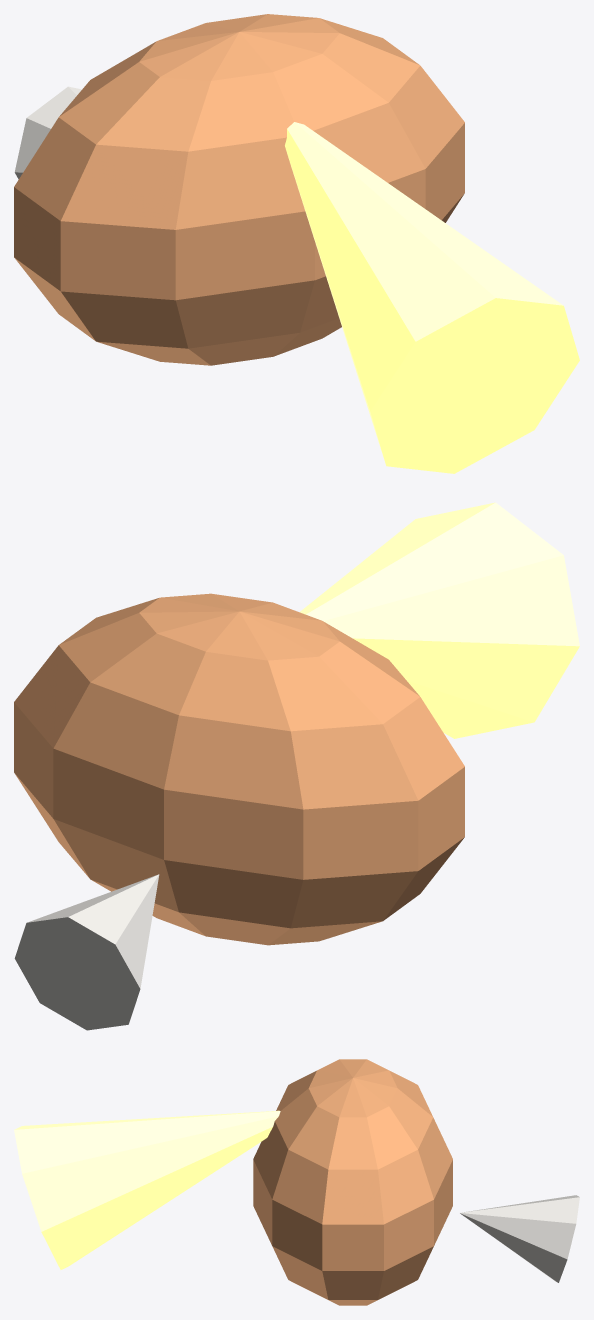
Rendered from tool_comet.glb.
3 renders of one model, top to bottom at view 1: azimuth 30°, elevation 25°; view 2: azimuth 150°, elevation 25°; view 3: azimuth 270°, elevation 25°, orthographic. The views are drawn at different scales.
Parts seen in each view (by area): view 1: body, tail, nozzle; view 2: body, tail, nozzle; view 3: body, tail, nozzle.
Boxes of the visible parts, x1,y1,x2,y2 form: body: (14, 14, 464, 365); tail: (285, 122, 579, 473); nozzle: (14, 86, 81, 179); body: (14, 593, 464, 945); tail: (299, 502, 579, 738); nozzle: (14, 874, 159, 1030); body: (253, 1059, 452, 1305); tail: (14, 1110, 280, 1269); nozzle: (460, 1195, 579, 1282).
Bounding box in the file's own units: 0.3857 × 0.288 × 0.7065.
